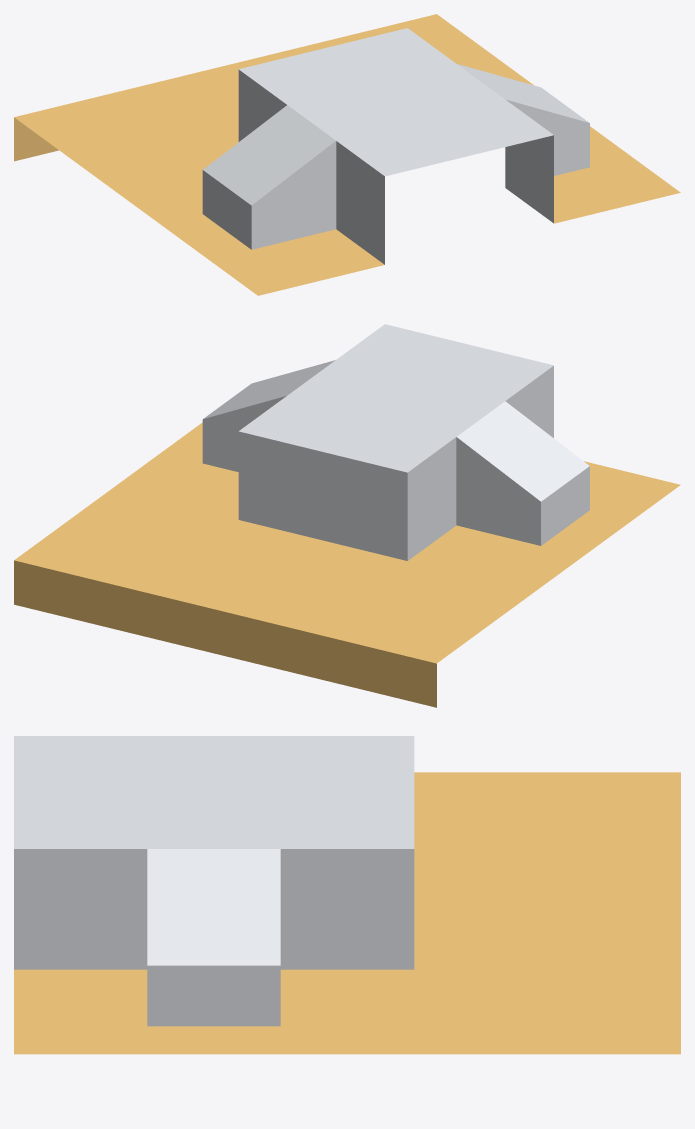
3 renders of one model, top to bottom at view 1: azimuth 30°, elevation 25°; view 2: azimuth 150°, elevation 25°; view 3: azimuth 270°, elevation 25°, orthographic. The views are drawn at different scales.
Bounding box in the file's own units: 1 × 0.3 × 1.
